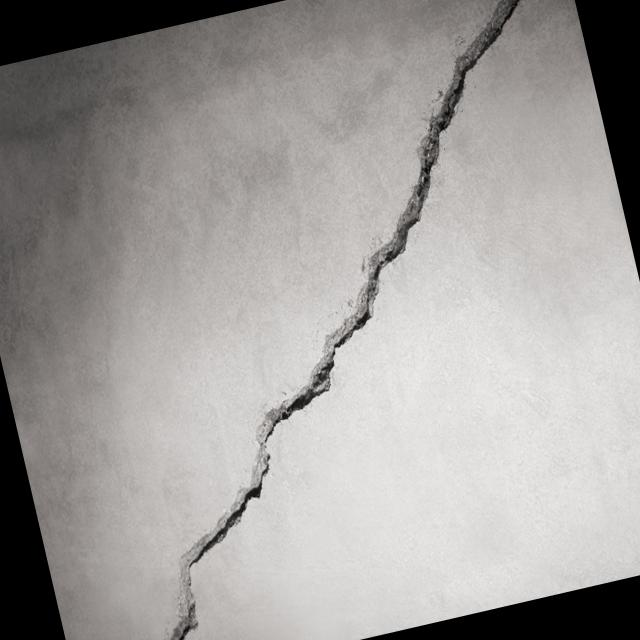crack: (165, 0, 521, 640)
